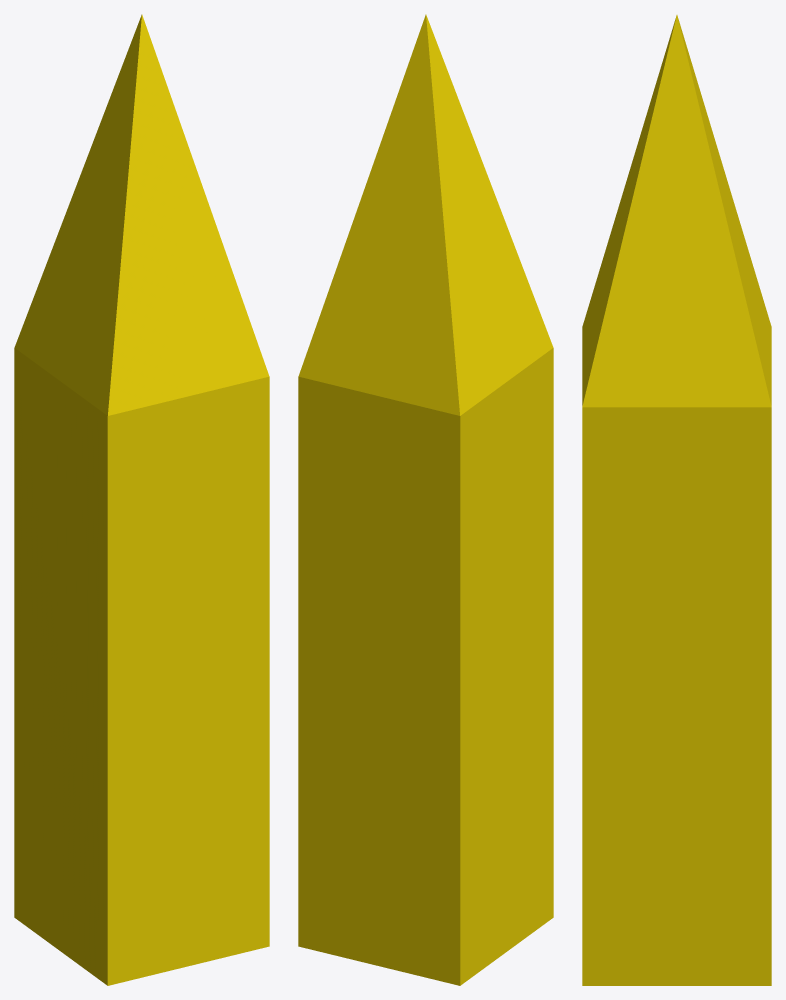
The model's file is round.glb.
3 views of the same model, side by side, from view 1: azimuth 30°, elevation 25°; view 2: azimuth 150°, elevation 25°; view 3: azimuth 270°, elevation 25° (orthographic).
Visible parts, largest first — view 1: Cube; view 2: Cube; view 3: Cube.
Boxes of the visible parts, left/top/right/bottom form: Cube: left=14, top=14, right=269, bottom=985; Cube: left=298, top=14, right=553, bottom=985; Cube: left=582, top=15, right=771, bottom=985.
Bounding box in the file's own units: 0.0319 × 0.1731 × 0.0319.
